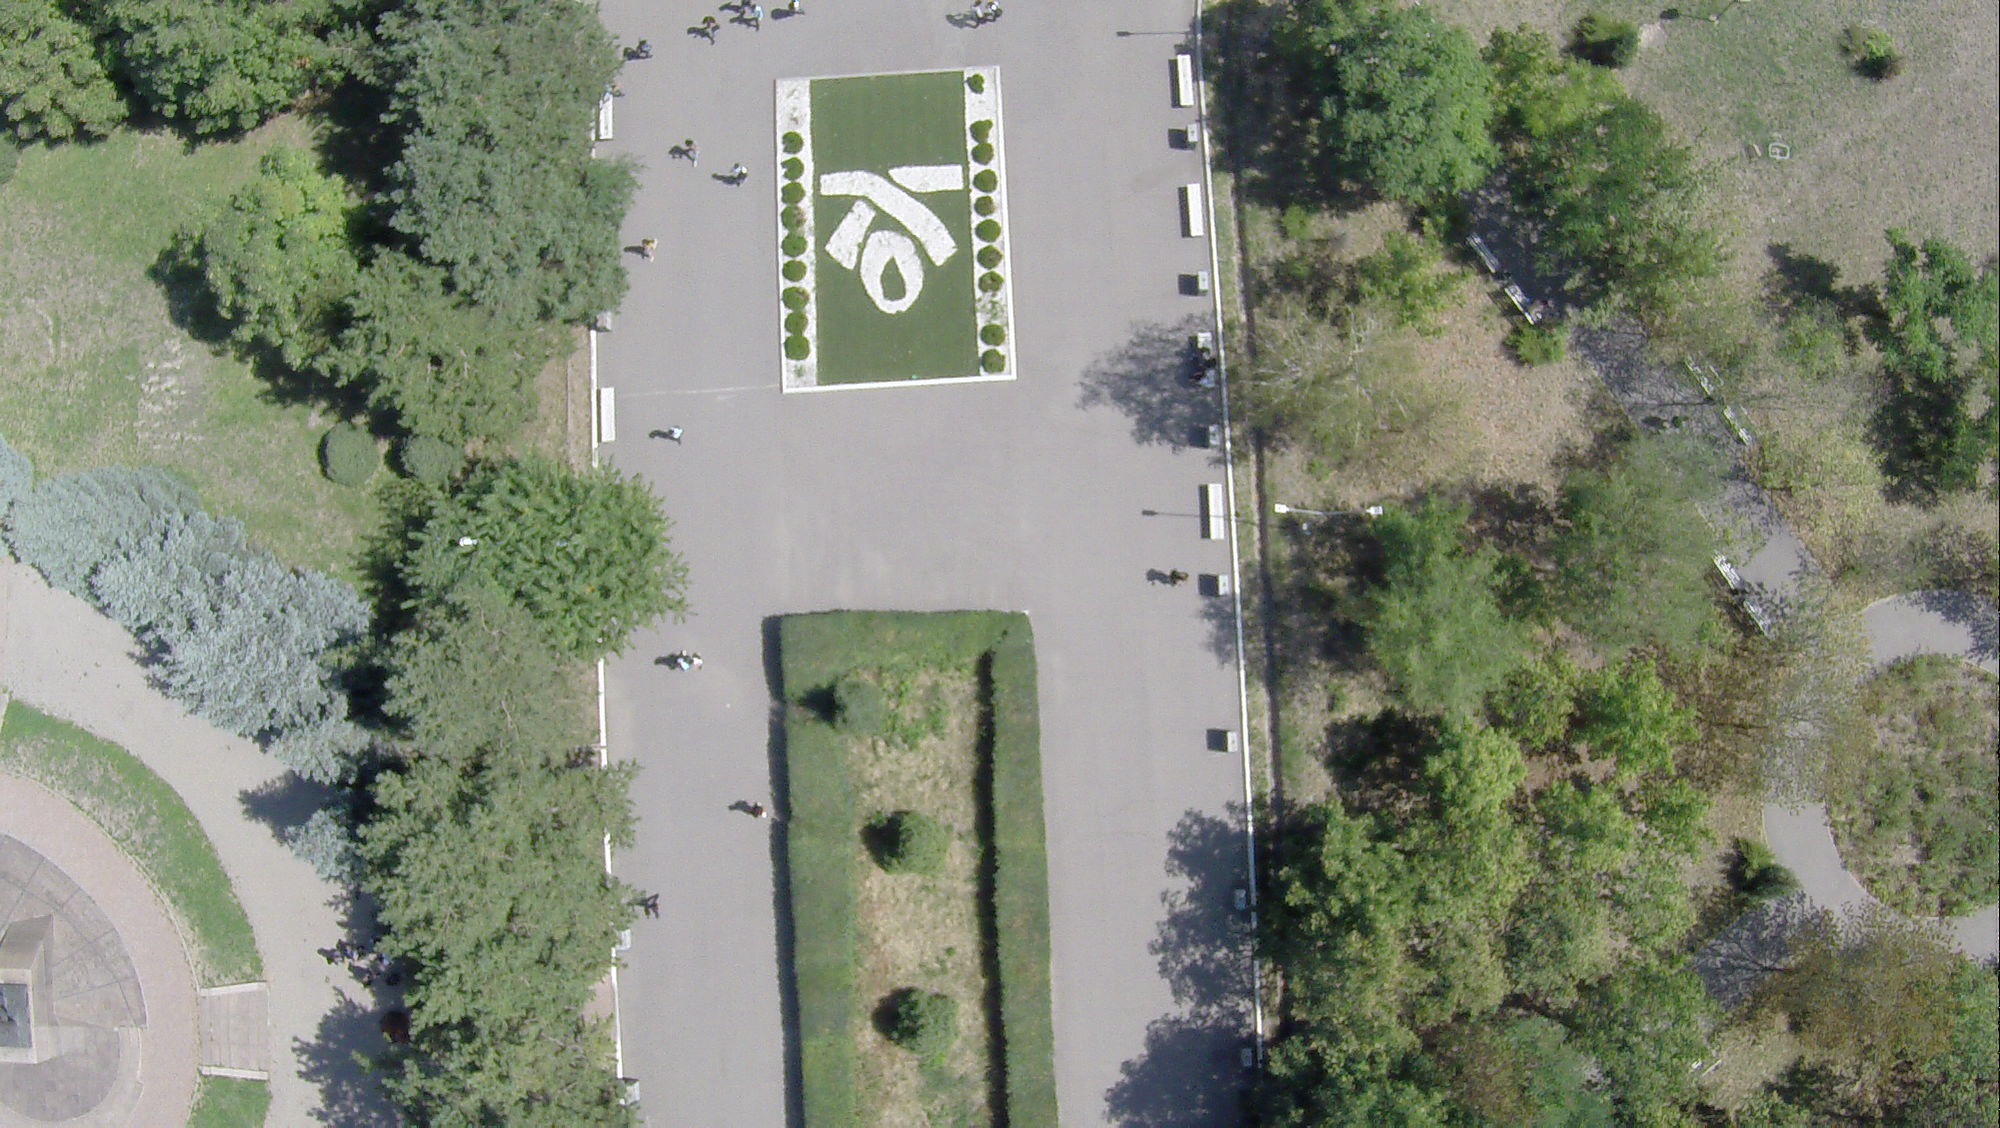person: (681, 136, 703, 169), (699, 14, 720, 44), (675, 650, 706, 669), (965, 1, 986, 26), (632, 38, 652, 63), (731, 161, 749, 187), (642, 237, 657, 261), (667, 424, 684, 447), (1170, 569, 1189, 587), (989, 1, 1006, 22), (753, 802, 767, 821)
